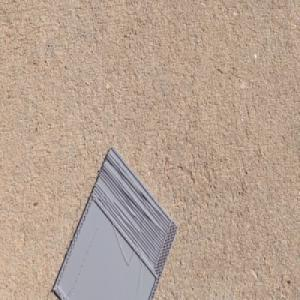PlasticPart: (51, 144, 178, 300)
